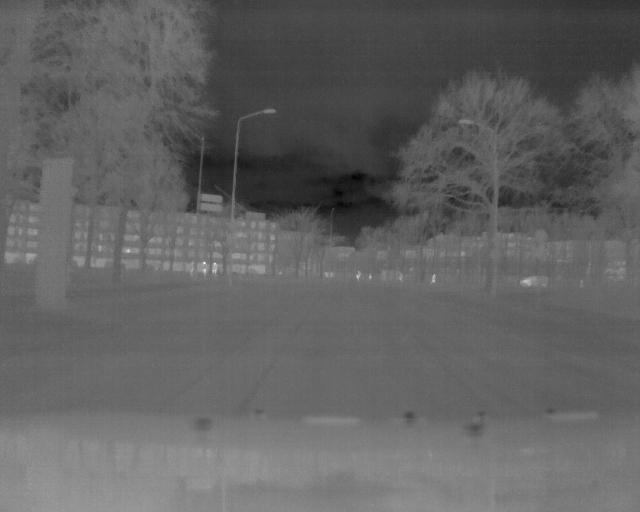person: (202, 260, 207, 278)
